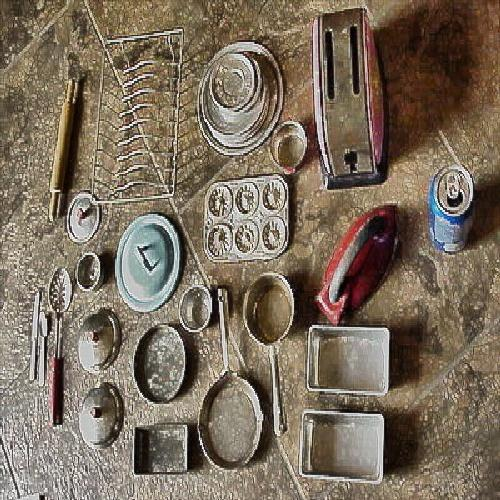toaster: (309, 17, 398, 187)
